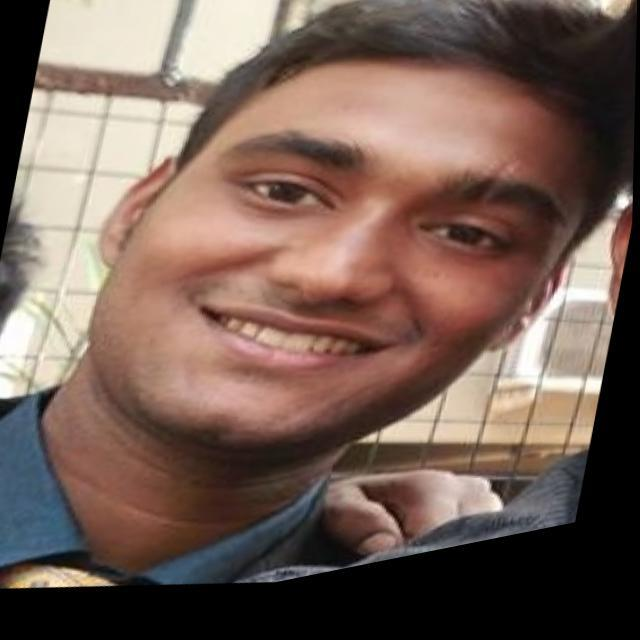Nonhelmet: (89, 12, 598, 464)
